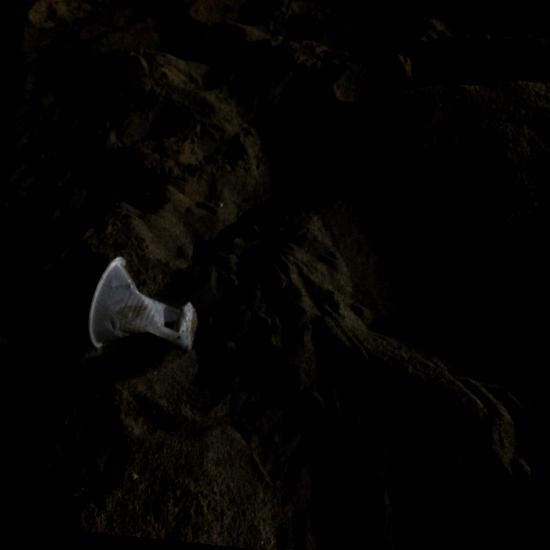Disposable plastic cup: (88, 264, 198, 352)
